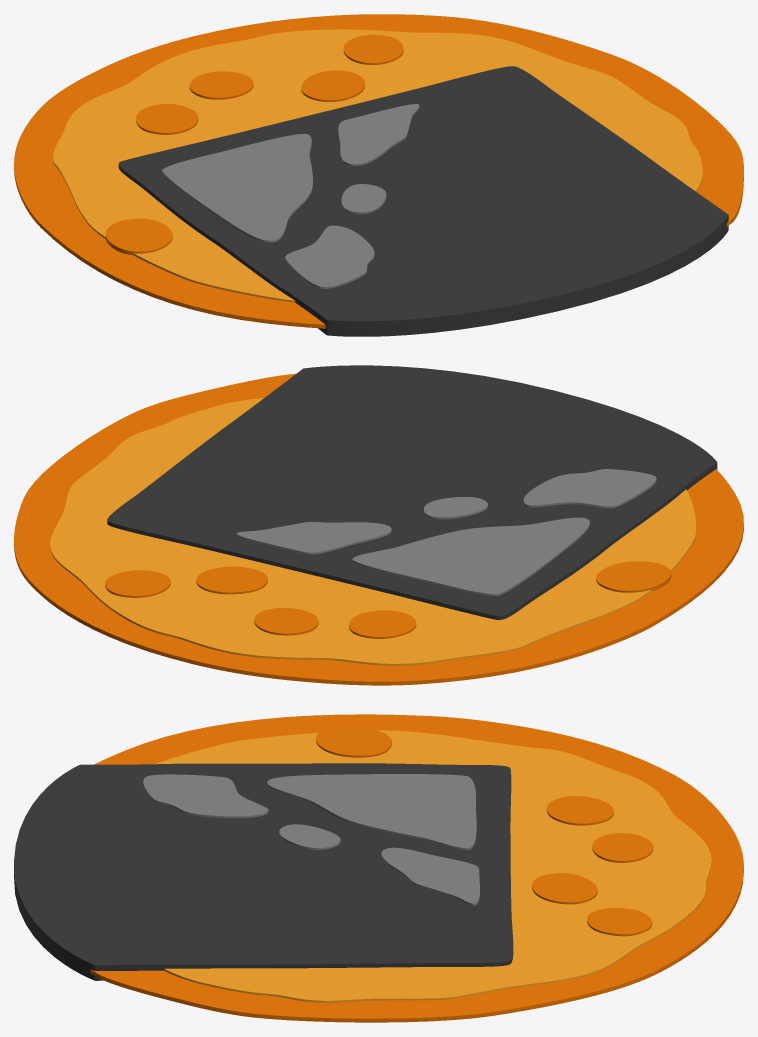
The model's file is emoji_u1f358.glb.
The picture shows the model from 3 angles, top to bottom: view 1: azimuth 30°, elevation 25°; view 2: azimuth 150°, elevation 25°; view 3: azimuth 270°, elevation 25°; orthographic projection.
Parts seen in each view (by area): view 1: emoji_u1f358; view 2: emoji_u1f358; view 3: emoji_u1f358.
Part boxes in pixels (left/top/right/bottom): emoji_u1f358: left=14, top=14, right=743, bottom=336; emoji_u1f358: left=14, top=365, right=743, bottom=685; emoji_u1f358: left=14, top=714, right=743, bottom=1022.
Size of the model in its own units: 0.0335 by 0.001 by 0.034.
